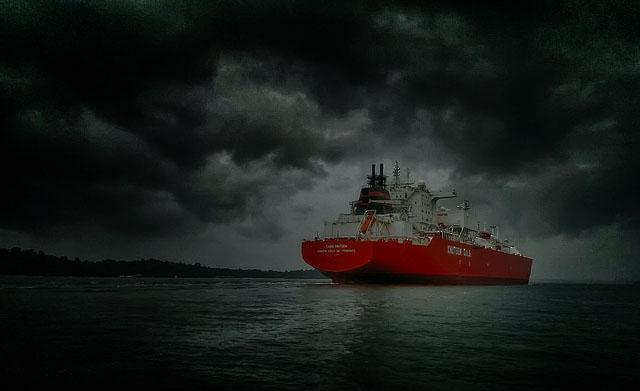LNG_ship: (302, 161, 533, 280)
